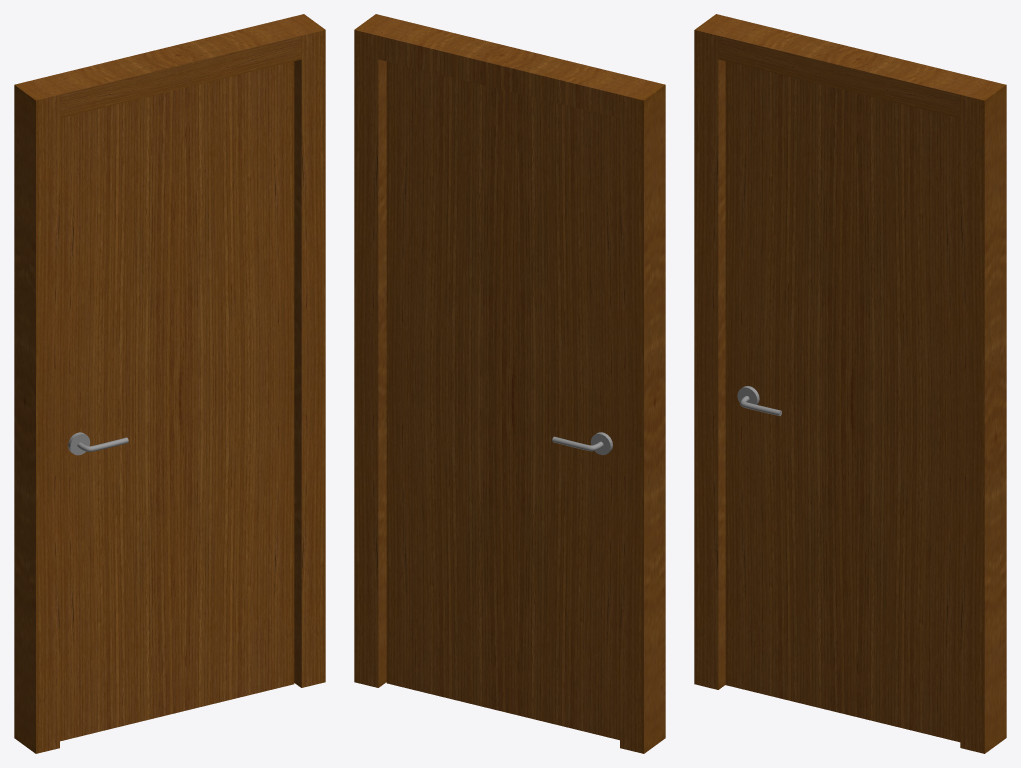
Rendered from Door.FBX.
3 renders of one model, left to right at view 1: azimuth 30°, elevation 25°; view 2: azimuth 150°, elevation 25°; view 3: azimuth 330°, elevation 25°, orthographic.
Visible parts, largest first — view 1: Door, door frame; view 2: Door, door frame; view 3: Door, door frame.
Boxes of the visible parts, x1,y1,x2,y2 form: Door: (60, 61, 294, 741); door frame: (14, 14, 325, 753); Door: (386, 61, 619, 740); door frame: (354, 14, 665, 753); Door: (725, 61, 960, 742); door frame: (694, 14, 1006, 753).
Size of the model in its own units: 38.02 by 6.62 by 81.89.
Materials: 2 (1 with a texture image).
